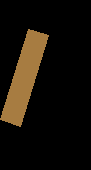parkingspot: (0, 29, 48, 126)
